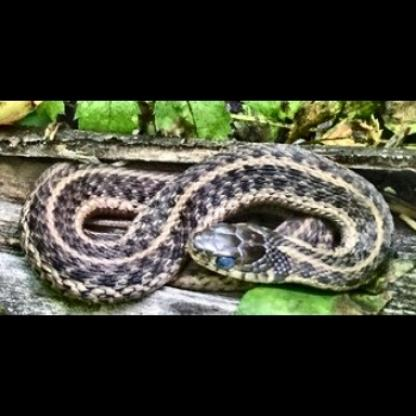Snake: (21, 138, 401, 306)
